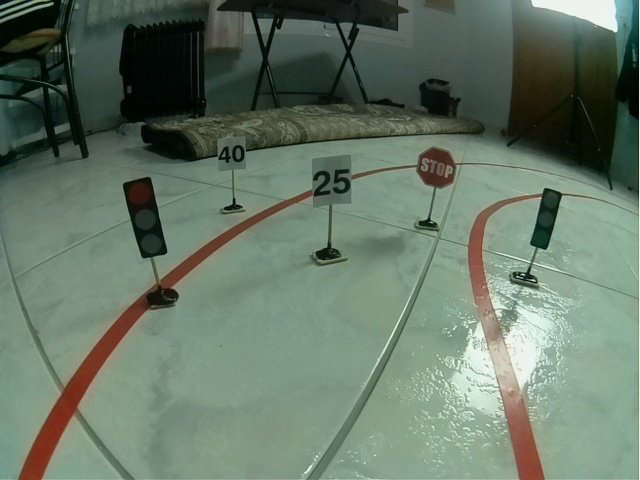Green Traffic Light: (530, 187, 562, 251)
Red Traffic Light: (123, 176, 168, 259)
Speed Limit 25: (312, 157, 352, 207)
Speed Limit 40: (218, 137, 247, 171)
Stop: (415, 146, 457, 189)
